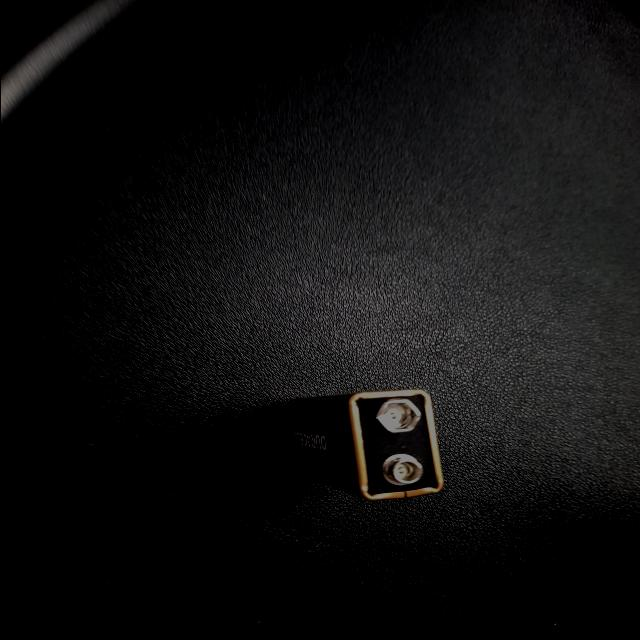9V: (0, 216, 122, 331)
